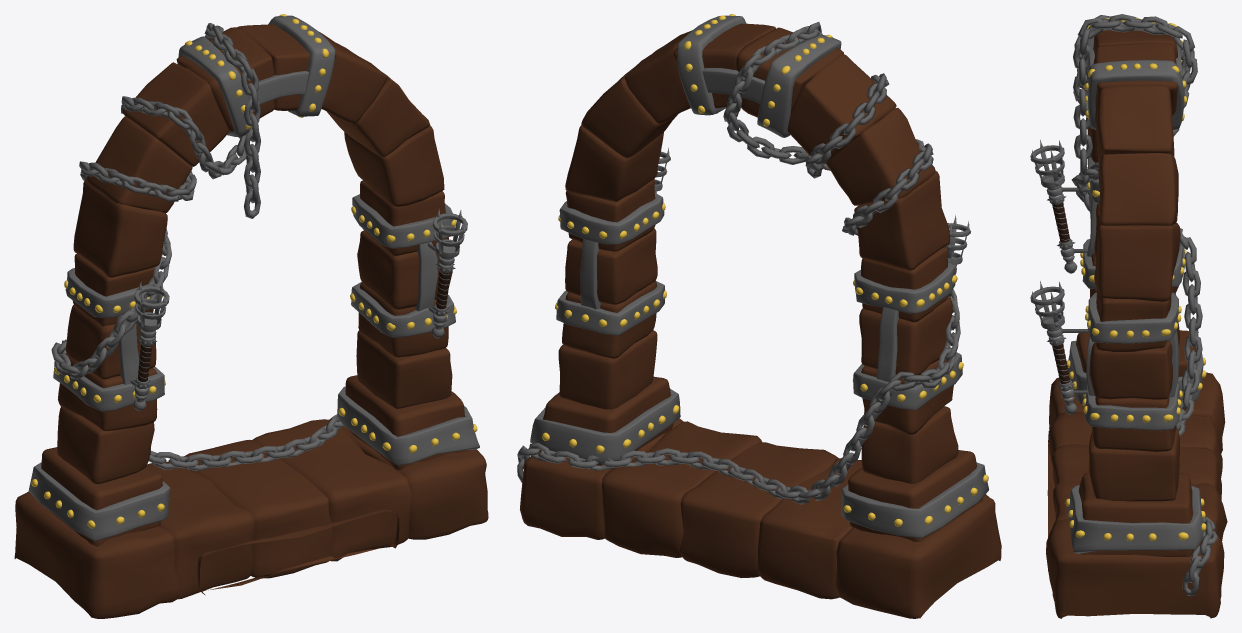
Rendered from portal frame.fbx.
The picture shows the model from 3 angles, left to right: view 1: azimuth 30°, elevation 25°; view 2: azimuth 150°, elevation 25°; view 3: azimuth 270°, elevation 25°; orthographic projection. The views are drawn at different scales.
Visible parts, largest first — view 1: Object_13, Object_9, Object_10, Object_14, Object_11, Object_5; view 2: Object_13, Object_9, Object_10, Object_11, Object_14; view 3: Object_13, Object_9, Object_10, Object_14, Object_11, Object_5.
Part boxes in pixels (x1=…): Object_13: x1=14, y1=24, x2=488, y2=618; Object_9: x1=28, y1=15, x2=479, y2=541; Object_10: x1=51, y1=23, x2=343, y2=470; Object_14: x1=130, y1=209, x2=467, y2=410; Object_11: x1=31, y1=14, x2=477, y2=528; Object_5: x1=137, y1=271, x2=450, y2=381; Object_13: x1=520, y1=23, x2=1001, y2=618; Object_9: x1=530, y1=15, x2=988, y2=538; Object_10: x1=517, y1=22, x2=960, y2=504; Object_11: x1=532, y1=14, x2=988, y2=526; Object_14: x1=654, y1=147, x2=970, y2=330; Object_13: x1=1046, y1=30, x2=1227, y2=618; Object_9: x1=1067, y1=19, x2=1203, y2=553; Object_10: x1=1071, y1=14, x2=1218, y2=595; Object_14: x1=1030, y1=139, x2=1089, y2=414; Object_11: x1=1065, y1=18, x2=1206, y2=541; Object_5: x1=1052, y1=202, x2=1070, y2=383.
Bounding box in the file's own units: 205 × 244 × 86.89.
